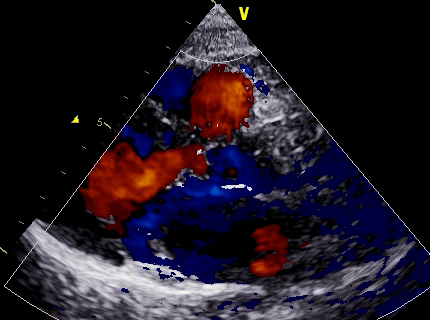AR: (153, 124, 249, 198)
